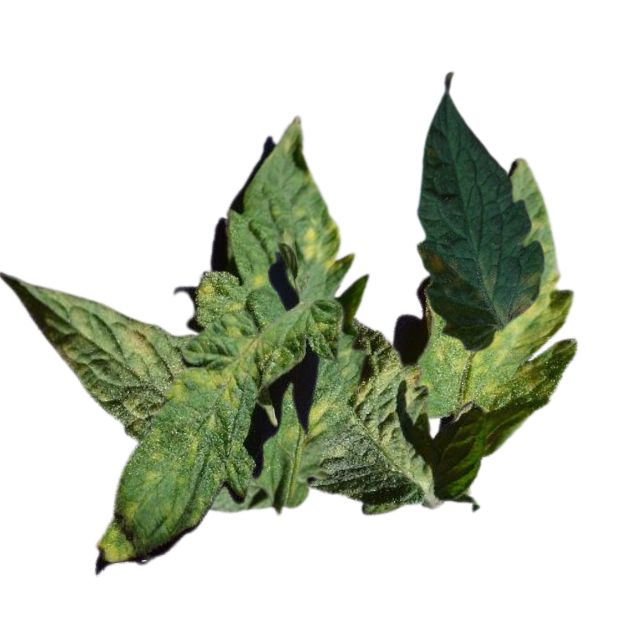Leaf_Mold: (410, 272, 575, 412), (165, 334, 267, 412), (299, 213, 349, 279), (196, 271, 265, 315), (96, 516, 135, 567), (305, 399, 342, 439), (120, 320, 157, 354)
